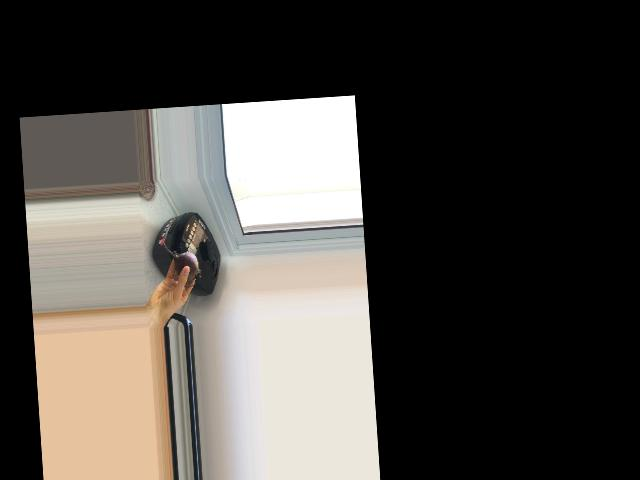beet: (163, 240, 201, 287)
